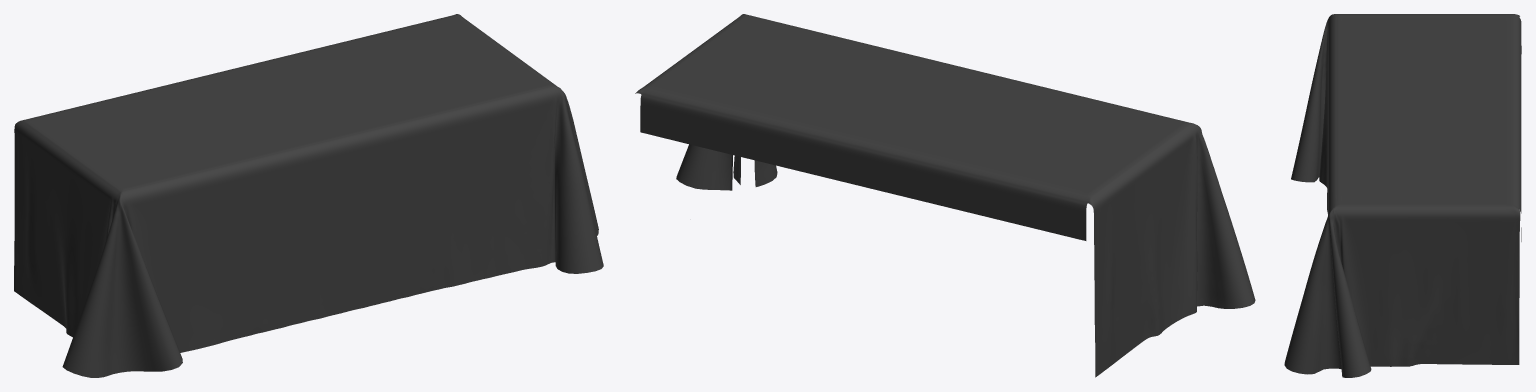
Rendered from throw-6ft-3.glb.
3 renders of one model, left to right at view 1: azimuth 30°, elevation 25°; view 2: azimuth 150°, elevation 25°; view 3: azimuth 270°, elevation 25°, orthographic. The views are drawn at different scales.
Parts seen in each view (by area): view 1: geometry_0; view 2: geometry_0; view 3: geometry_0.
Part boxes in pixels (x1,y1,x2,y2): geometry_0: (14, 14, 603, 377); geometry_0: (635, 14, 1255, 377); geometry_0: (1284, 14, 1521, 377).
Bounding box in the file's own units: 2.3 × 0.7073 × 0.9528.
Materials: 1 (1 with a texture image).
